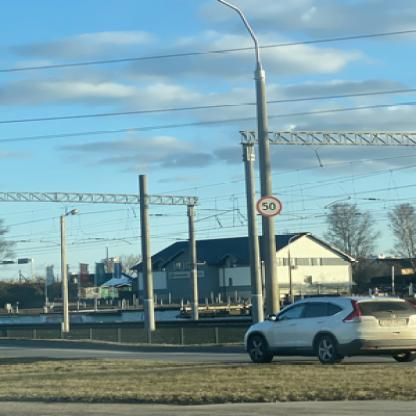Speed Limit 50: (258, 196, 282, 218)
